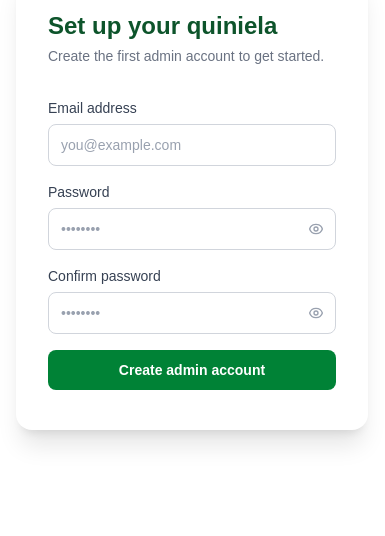
Test: SetupAdminForm › shows form error and a login link when createFirstAdmin returns SETUP_ALREADY_COMPLETE
Type "admin@example.com" into the field labelled "Email address" at (192,145), box [48,124,336,166]
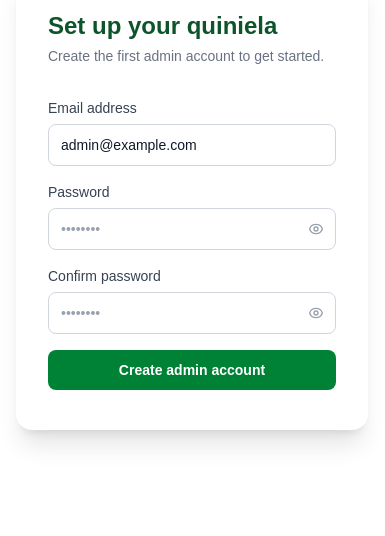
Type "Password1" into the password field labelled "Password" at (192,229), box [48,208,336,250]
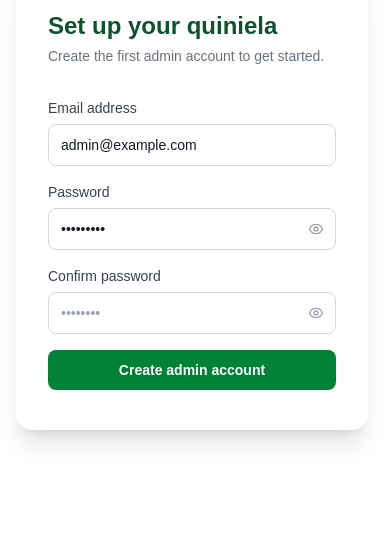
Type "Password1" into the password field labelled "Confirm password" at (192,313), box [48,292,336,334]
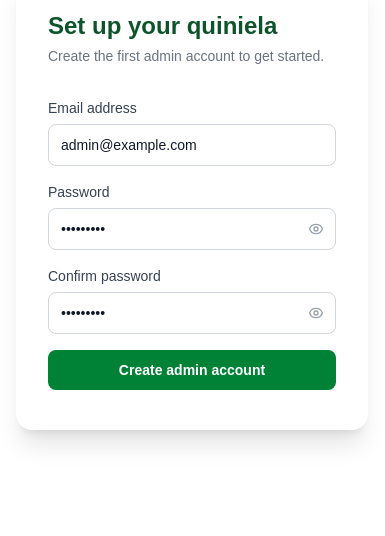
Submit the form labelled "Email address Password Confirm password Create admin account", box [48,98,336,390]
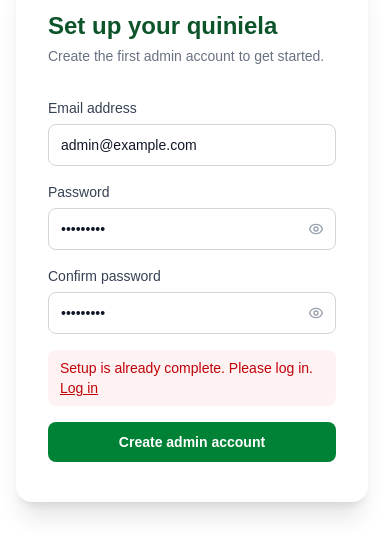
Check: the text "Setup is already complete. Please log in. Log in" is shown, box [48,350,336,406]
